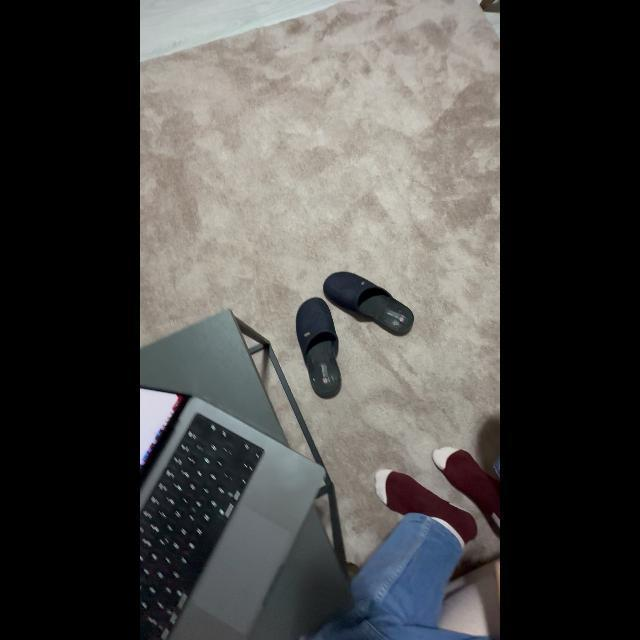slipper: (320, 264, 420, 340), (292, 296, 348, 402)
